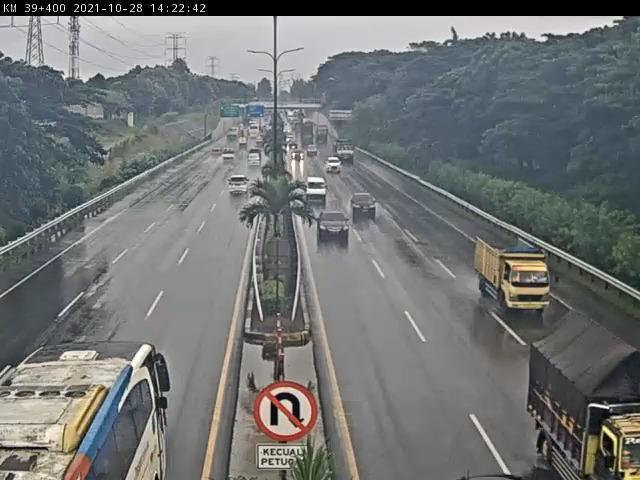bus: (1, 336, 168, 480)
car: (316, 209, 350, 239), (352, 193, 379, 218), (228, 175, 251, 196), (307, 178, 328, 201), (327, 156, 344, 174), (247, 154, 264, 169)
truck: (532, 312, 640, 480), (474, 231, 552, 317)
